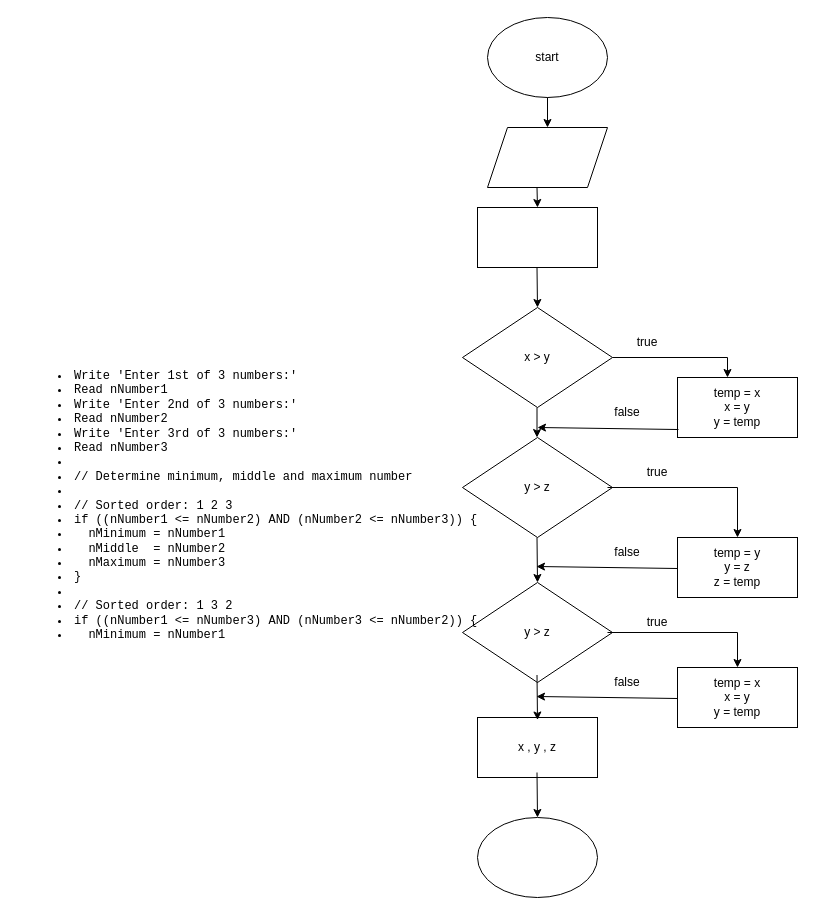
Image size: 815x915. Some labels were removed from this diagram. Each missing label, with the centre of its shape:
"a , b , c" goes at [547,157].
"end" goes at [537,857].
"x = a y = b z = c" goes at [537,237].
